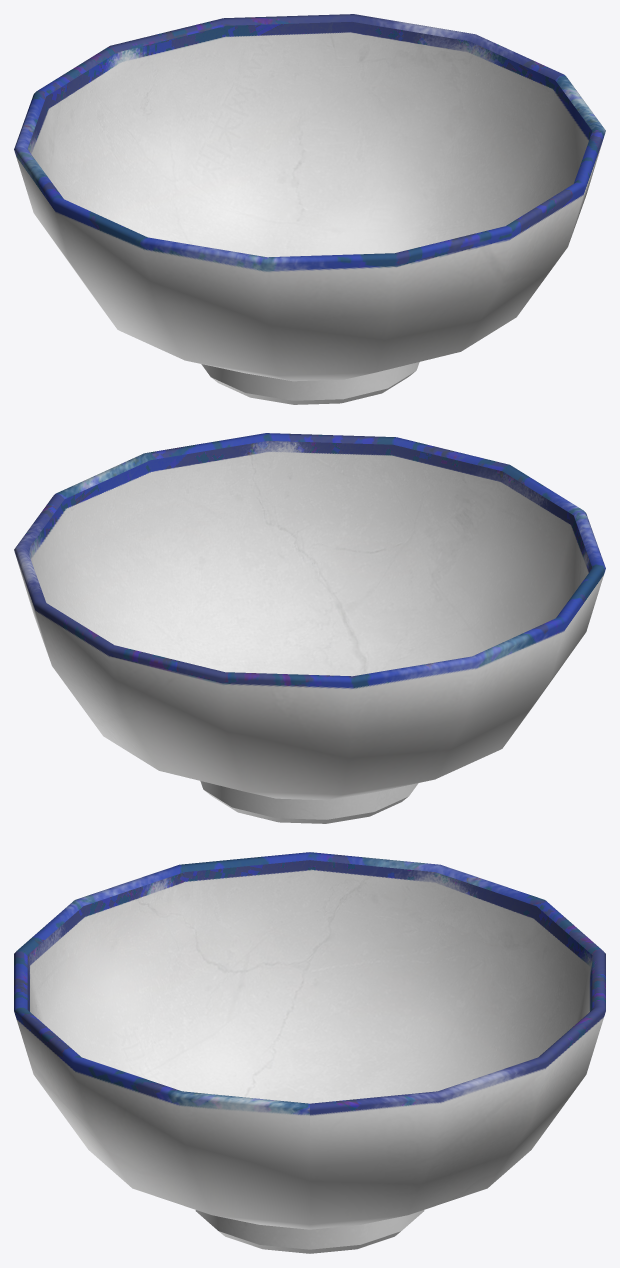
The model's file is bow.FBX.
The picture shows the model from 3 angles, top to bottom: view 1: azimuth 30°, elevation 25°; view 2: azimuth 150°, elevation 25°; view 3: azimuth 270°, elevation 25°; orthographic projection. The views are drawn at different scales.
Visible parts, largest first — view 1: Cylinder001; view 2: Cylinder001; view 3: Cylinder001.
Part boxes in pixels (<box>): Cylinder001: <box>14,14,605,404</box>; Cylinder001: <box>14,433,605,823</box>; Cylinder001: <box>14,852,605,1253</box>.
Bounding box in the file's own units: 25.29 × 10.51 × 24.66.
1 material, 1 textured.
